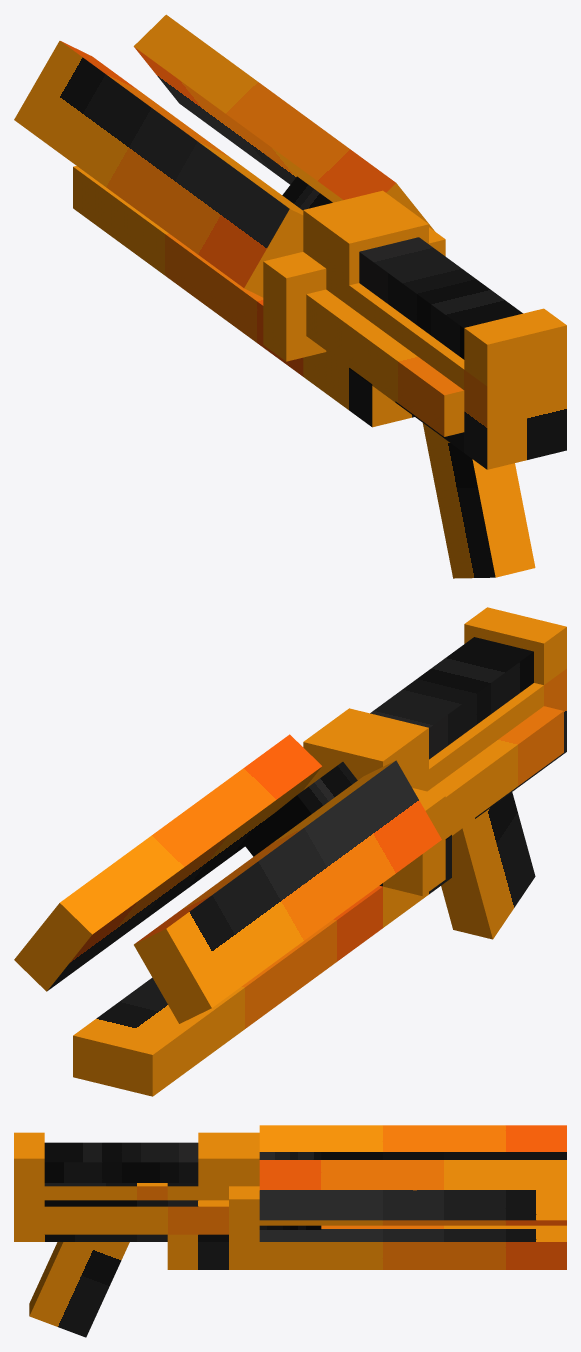
Rendered from magma_launcher.obj.
3 views of the same model, one above another, from view 1: azimuth 30°, elevation 25°; view 2: azimuth 150°, elevation 25°; view 3: azimuth 270°, elevation 25° (orthographic). The views are drawn at different scales.
Visible parts, largest first — view 1: cube; view 2: cube; view 3: cube.
Part boxes in pixels (<box>): cube: <box>14,14,566,578</box>; cube: <box>14,607,566,1096</box>; cube: <box>14,1125,566,1337</box>.
Size of the model in its own units: 0.3104 by 0.4235 by 1.12.
